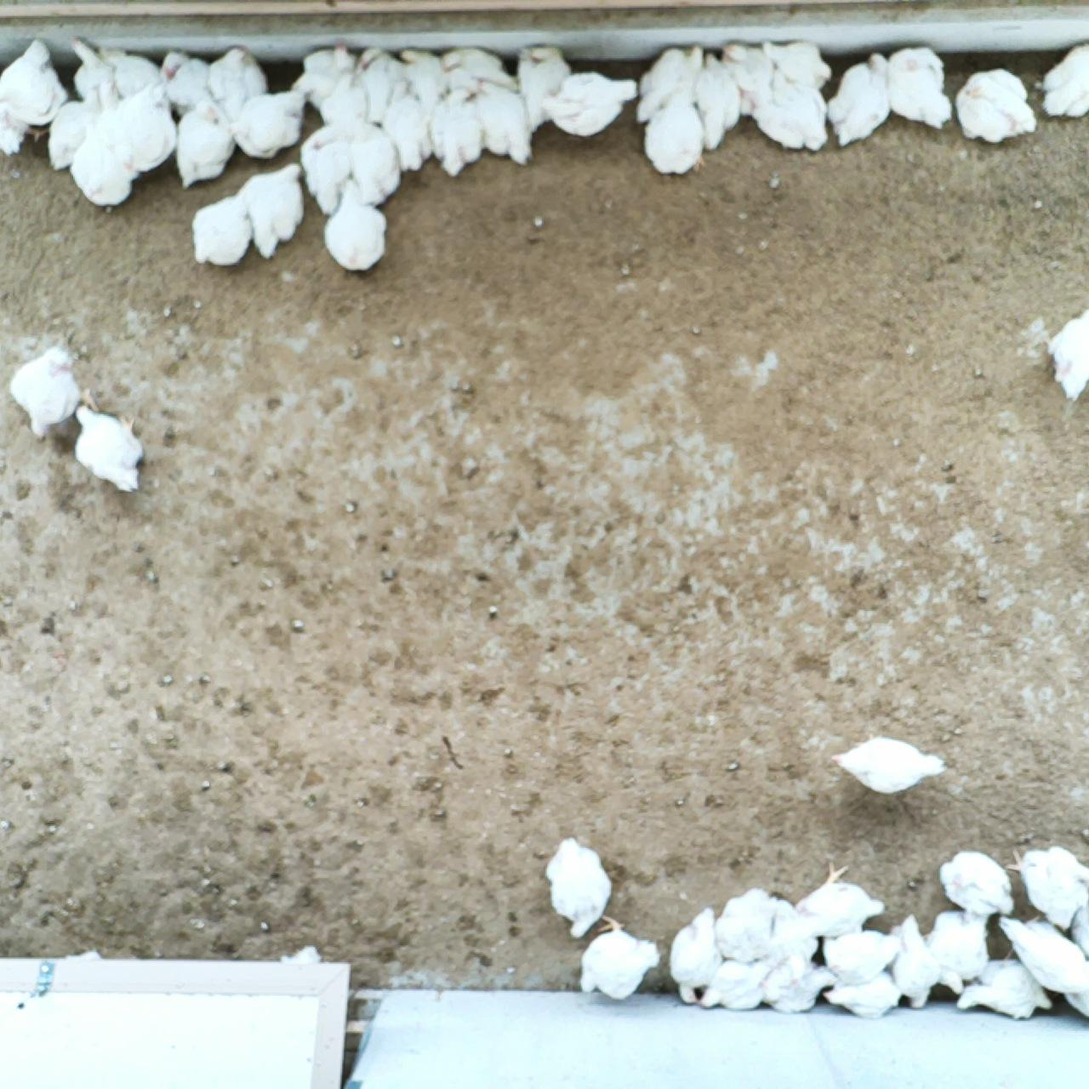chicken: (7, 342, 99, 448), (70, 84, 140, 209), (827, 730, 946, 800), (0, 36, 70, 155), (996, 911, 1089, 998), (793, 859, 890, 942), (576, 912, 663, 1003), (93, 76, 177, 170), (68, 402, 150, 498), (543, 833, 616, 940), (1004, 838, 1089, 929), (954, 64, 1039, 147), (543, 69, 641, 140), (953, 954, 1056, 1021), (238, 162, 307, 262), (826, 50, 894, 149), (918, 905, 992, 995), (169, 95, 237, 191), (321, 177, 389, 272), (640, 85, 709, 177), (226, 88, 311, 162), (936, 846, 1018, 920), (668, 904, 726, 1008), (886, 44, 955, 131), (712, 887, 788, 962), (632, 44, 703, 124), (472, 78, 535, 167), (379, 78, 438, 172), (768, 66, 831, 150), (430, 85, 487, 177), (299, 120, 353, 217), (46, 81, 104, 171), (764, 892, 820, 984), (516, 44, 574, 131), (349, 120, 406, 208), (207, 43, 271, 120), (815, 926, 899, 984), (188, 192, 251, 269), (1041, 304, 1089, 405), (293, 39, 359, 111), (695, 48, 742, 149), (893, 914, 941, 1012), (104, 48, 172, 116), (756, 961, 837, 1016), (698, 955, 776, 1012), (822, 969, 903, 1021), (1039, 36, 1089, 120), (720, 40, 775, 116), (161, 49, 222, 117), (67, 36, 120, 107), (761, 38, 834, 88), (750, 86, 804, 153), (357, 47, 403, 122), (437, 47, 521, 88), (399, 47, 451, 110), (321, 72, 368, 124), (1058, 960, 1089, 1020)
